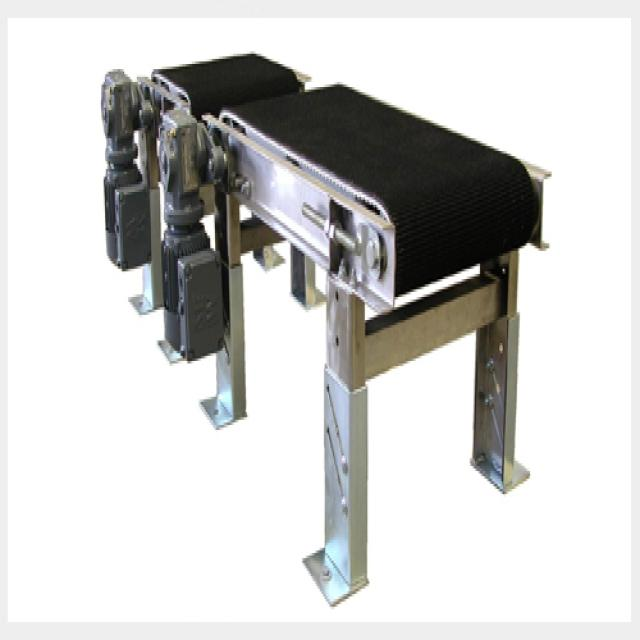conveyor: (90, 29, 554, 612)
